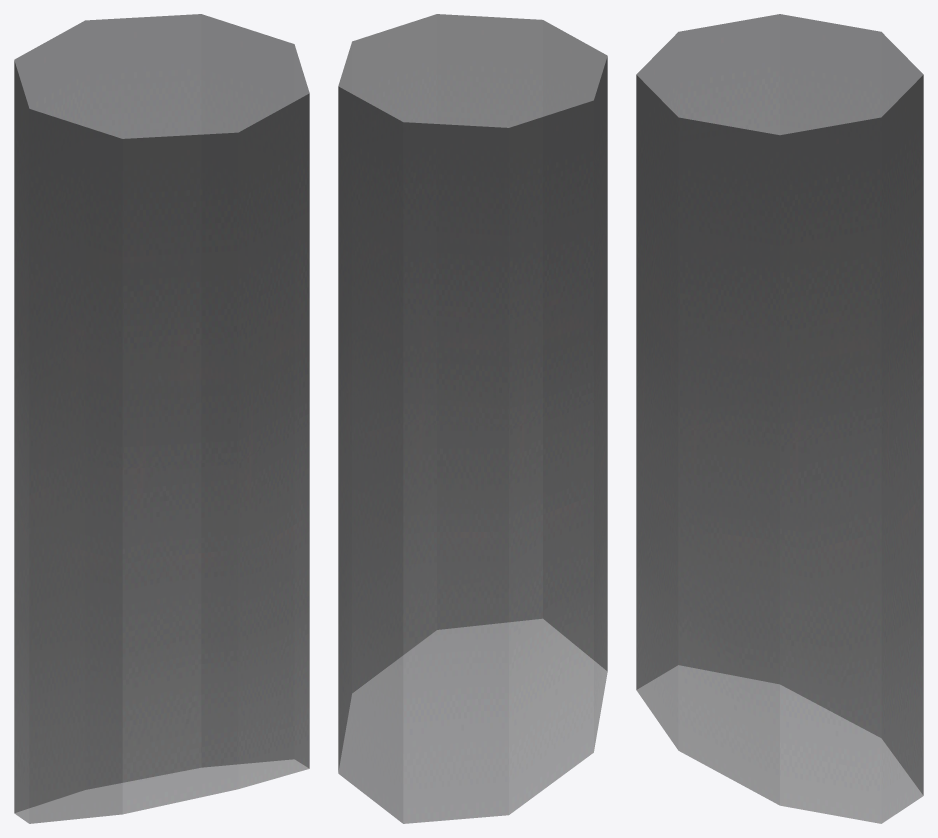
The picture shows the model from 3 angles, left to right: view 1: azimuth 30°, elevation 25°; view 2: azimuth 150°, elevation 25°; view 3: azimuth 270°, elevation 25°; orthographic projection. The views are drawn at different scales.
Parts seen in each view (by area): view 1: Hk_obj_070; view 2: Hk_obj_070; view 3: Hk_obj_070.
Part boxes in pixels (x1,y1,x2,y2): Hk_obj_070: (14,14,309,823); Hk_obj_070: (338,14,607,823); Hk_obj_070: (636,14,923,823).
Bounding box in the file's own units: 1.46 × 4.06 × 1.46.
1 material, 1 textured.
